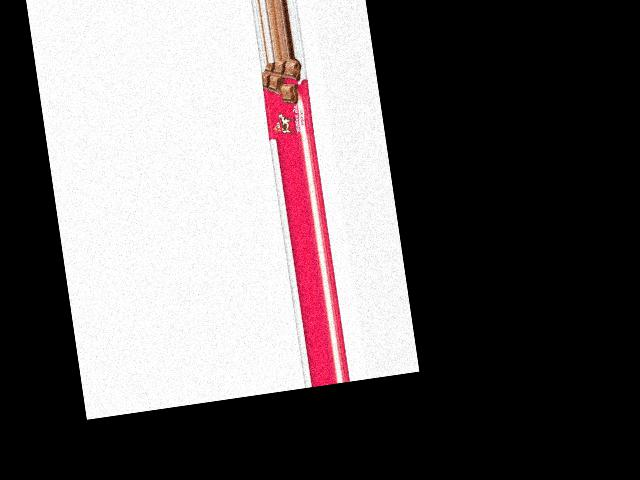chocolate: (259, 58, 315, 141)
